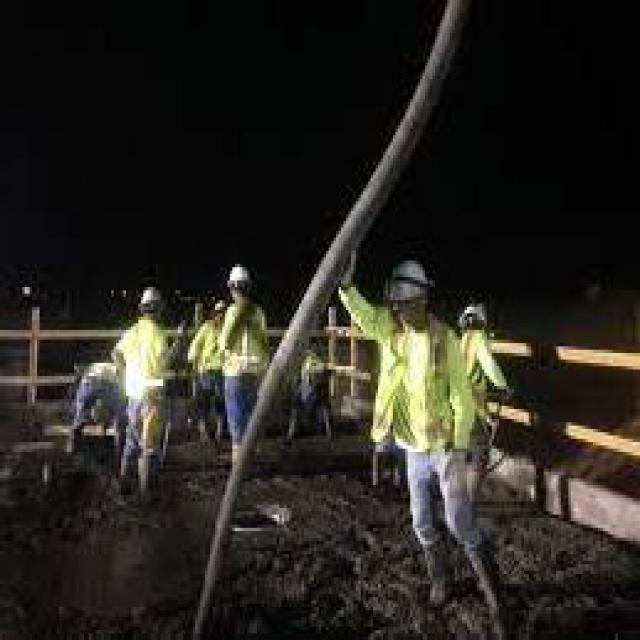Reflective-Jacket: (358, 310, 492, 469), (111, 313, 176, 416), (215, 297, 277, 392)
Safety-Helmet: (378, 248, 440, 304), (217, 254, 257, 300), (452, 294, 494, 336), (131, 277, 168, 320)
